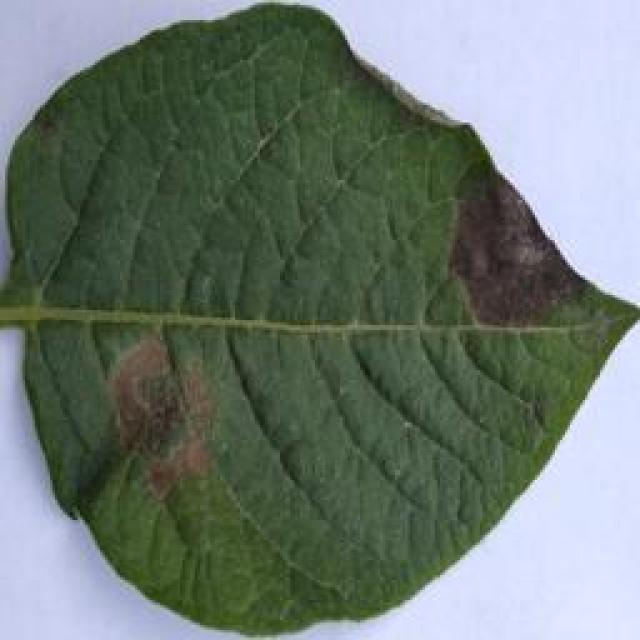Potato_Late_Blight: (5, 7, 630, 632)
